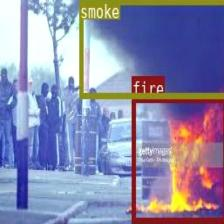fire: (131, 96, 224, 222)
smoke: (78, 0, 224, 97)
